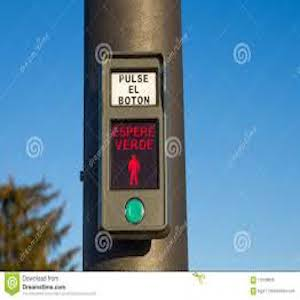red: (109, 122, 159, 188)
